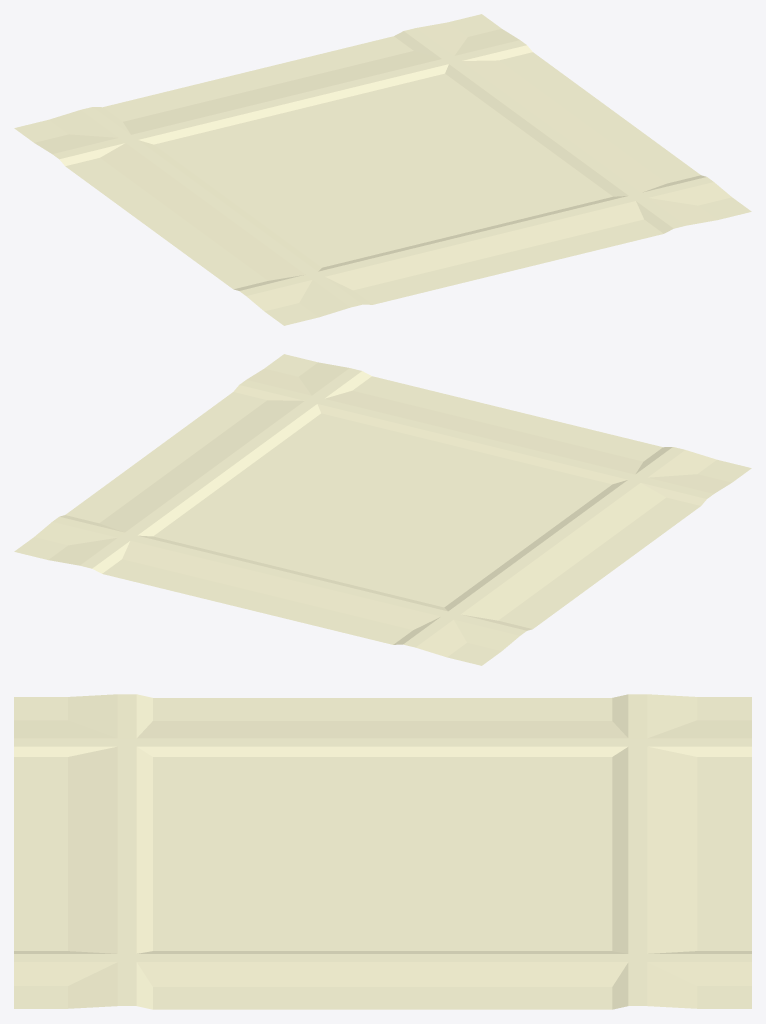
File: Floor3.fbx
The picture shows the model from 3 angles, top to bottom: view 1: azimuth 30°, elevation 25°; view 2: azimuth 150°, elevation 25°; view 3: azimuth 270°, elevation 25°; orthographic projection. The views are drawn at different scales.
Visible parts, largest first — view 1: SM_Floor_03; view 2: SM_Floor_03; view 3: SM_Floor_03.
Part boxes in pixels (x1,y1,x2,y2): SM_Floor_03: (14,14,751,325); SM_Floor_03: (14,354,751,665); SM_Floor_03: (14,694,751,1009).
Size of the model in its own units: 300 by 1.69 by 300.
